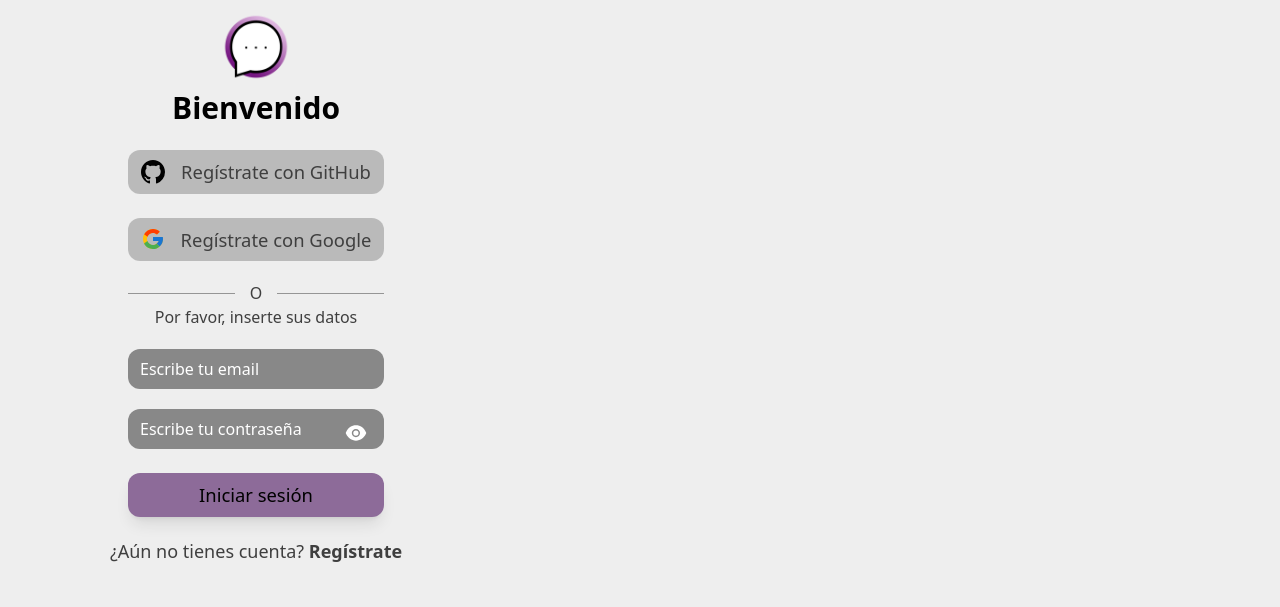
Test: Login › Should display email error when value of input have a bad format
Type "emailWithBadFormat@" into the field with placeholder "Escribe tu email". click: (256, 369)
box: left=128, top=349, right=384, bottom=389
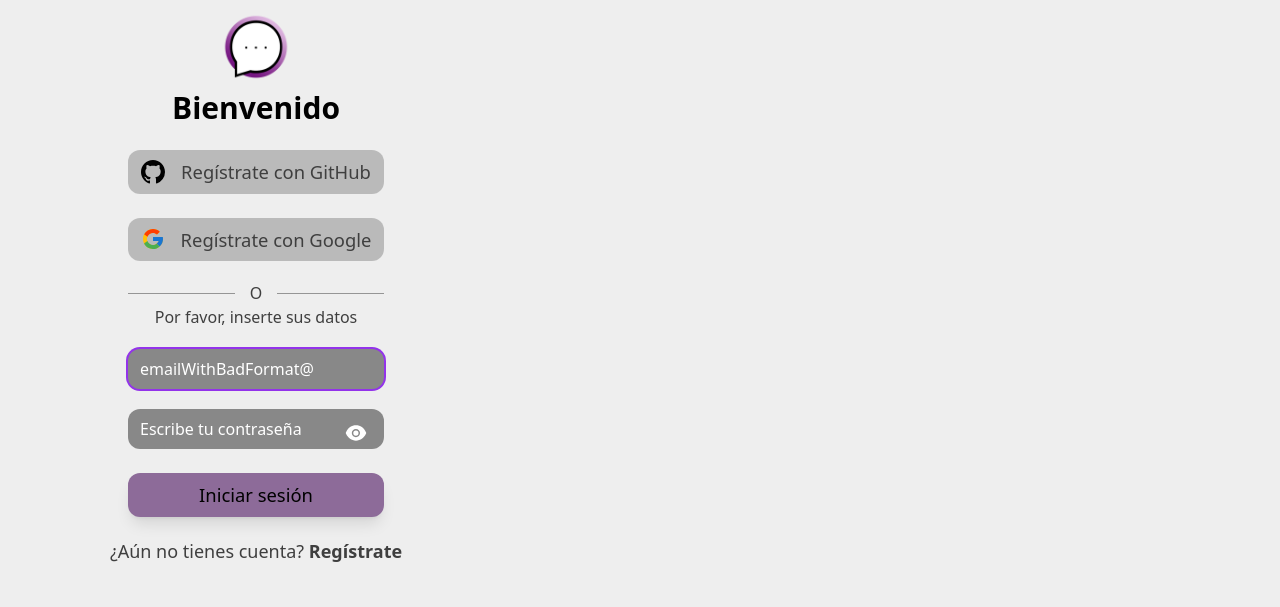
Click the element that starts with "Bienvenido". click: (640, 288)
box: left=0, top=12, right=1279, bottom=565
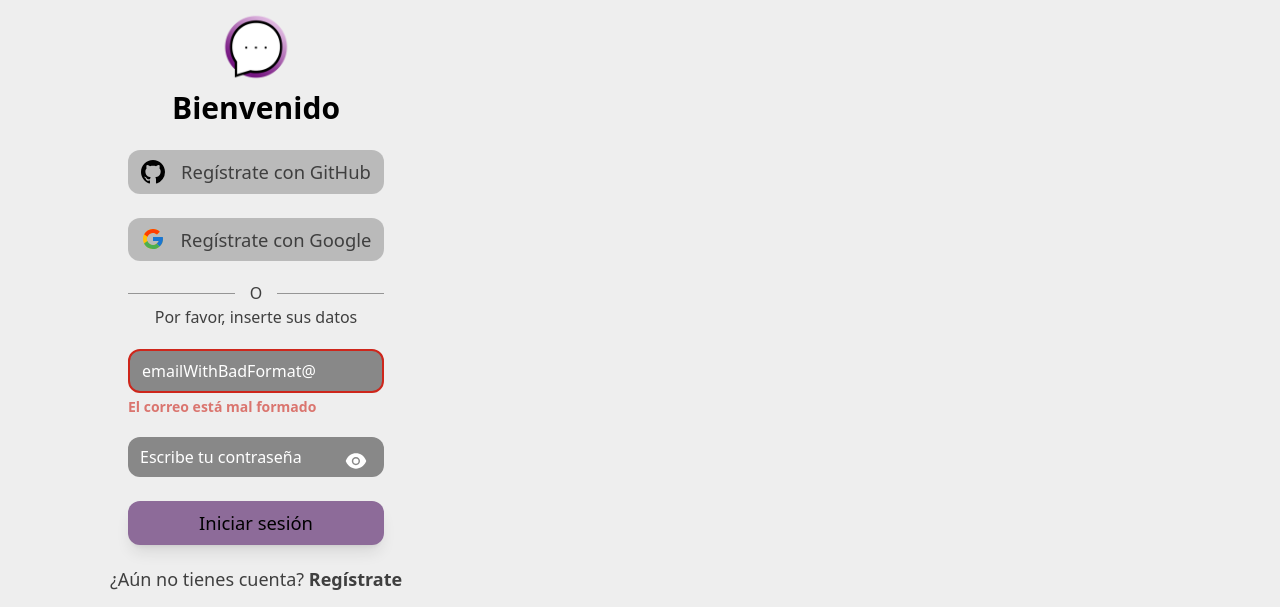
expect the text "El correo está mal formado" is shown: met, box left=128, top=397, right=316, bottom=416
